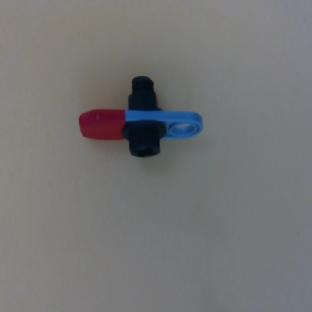part_1_good: (70, 59, 207, 180)
